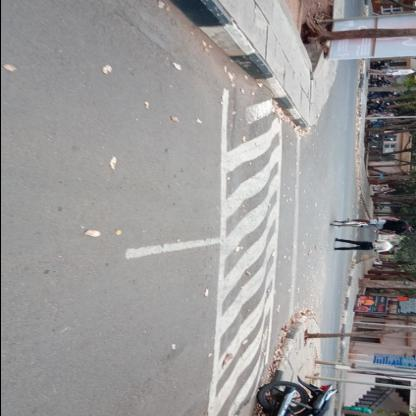speed-bumps: (203, 67, 299, 415)
